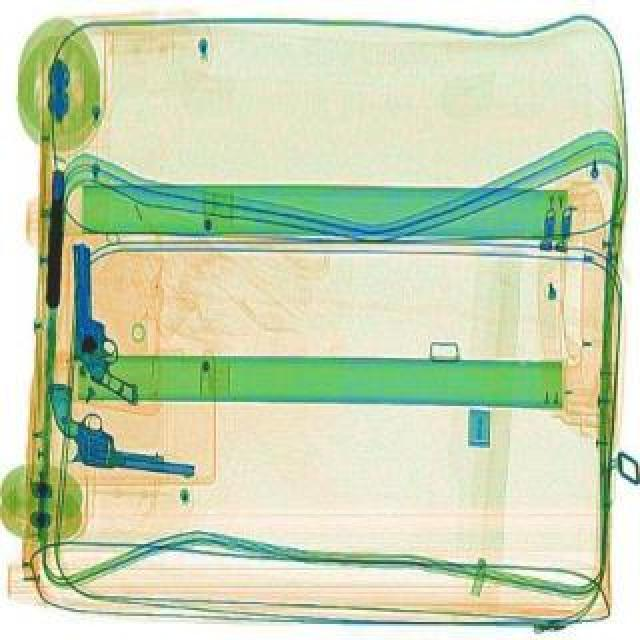gun: (40, 382, 200, 472), (68, 240, 136, 406), (42, 170, 68, 308)
